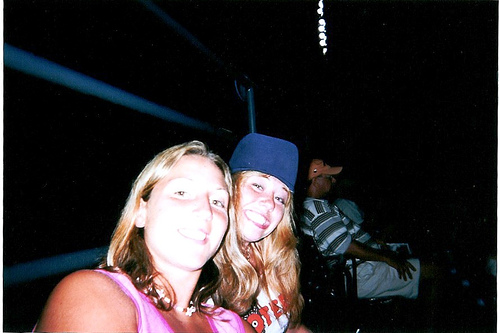without_mask: (141, 151, 235, 268), (234, 166, 293, 243), (303, 162, 343, 201)
